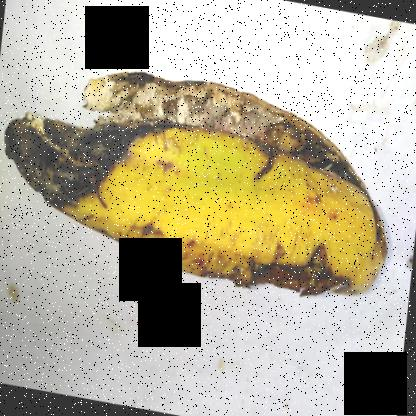rotten: (121, 46, 386, 204), (1, 28, 177, 238), (171, 212, 370, 330)
